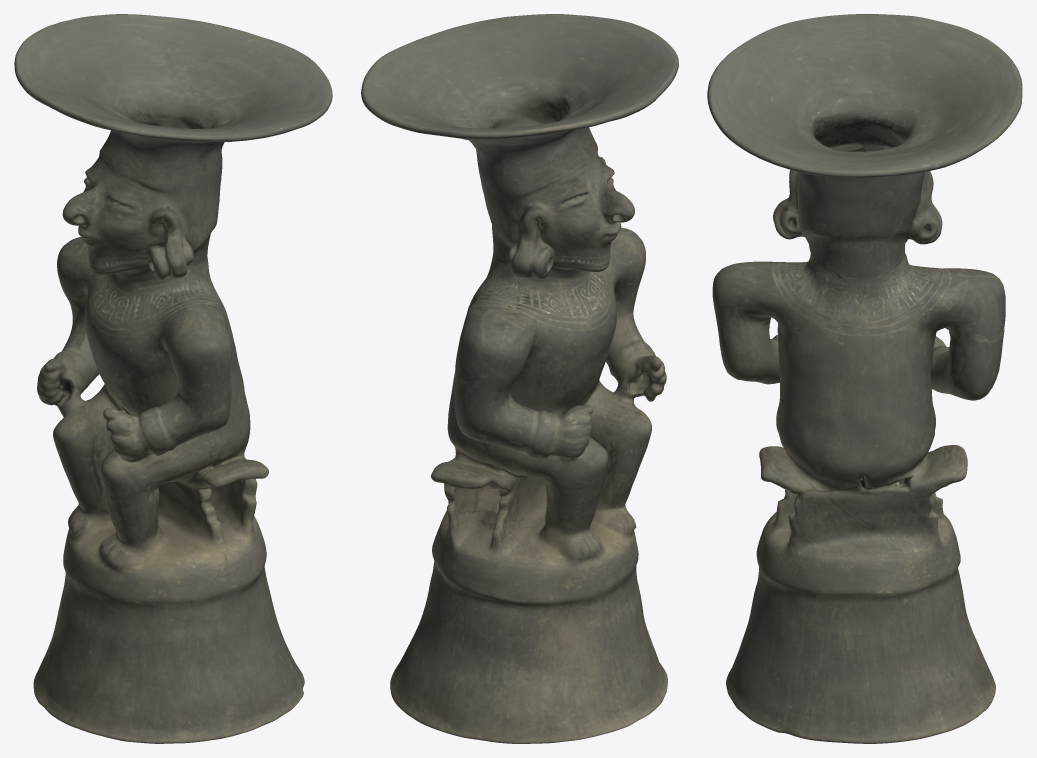
Rendered from human_effigy_pot_ecuador_800-1500_ad.glb.
3 renders of one model, left to right at view 1: azimuth 30°, elevation 25°; view 2: azimuth 150°, elevation 25°; view 3: azimuth 270°, elevation 25°, orthographic. The views are drawn at different scales.
Visible parts, largest first — view 1: Object_2; view 2: Object_2; view 3: Object_2.
Boxes of the visible parts, box(x1,y1,x2,y2) form: Object_2: box(14, 14, 332, 743); Object_2: box(361, 14, 678, 743); Object_2: box(707, 14, 1022, 743).
Size of the model in its own units: 9.4 by 20.32 by 9.46.
1 material, 1 textured.
